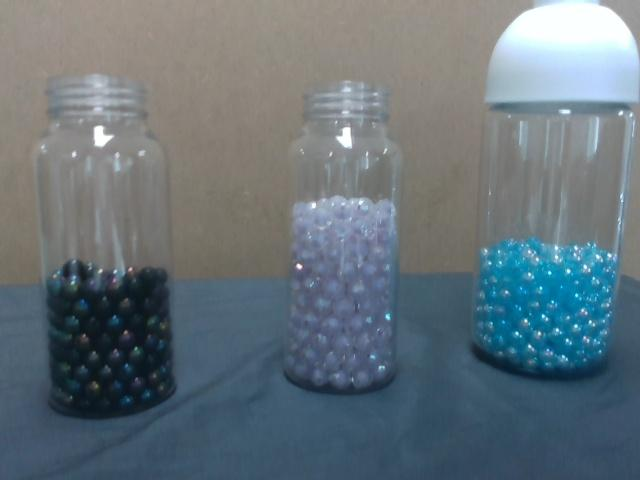black_bottle: (41, 255, 179, 426)
blue_bottle: (468, 231, 621, 383)
purple_bottle: (278, 190, 401, 396)
